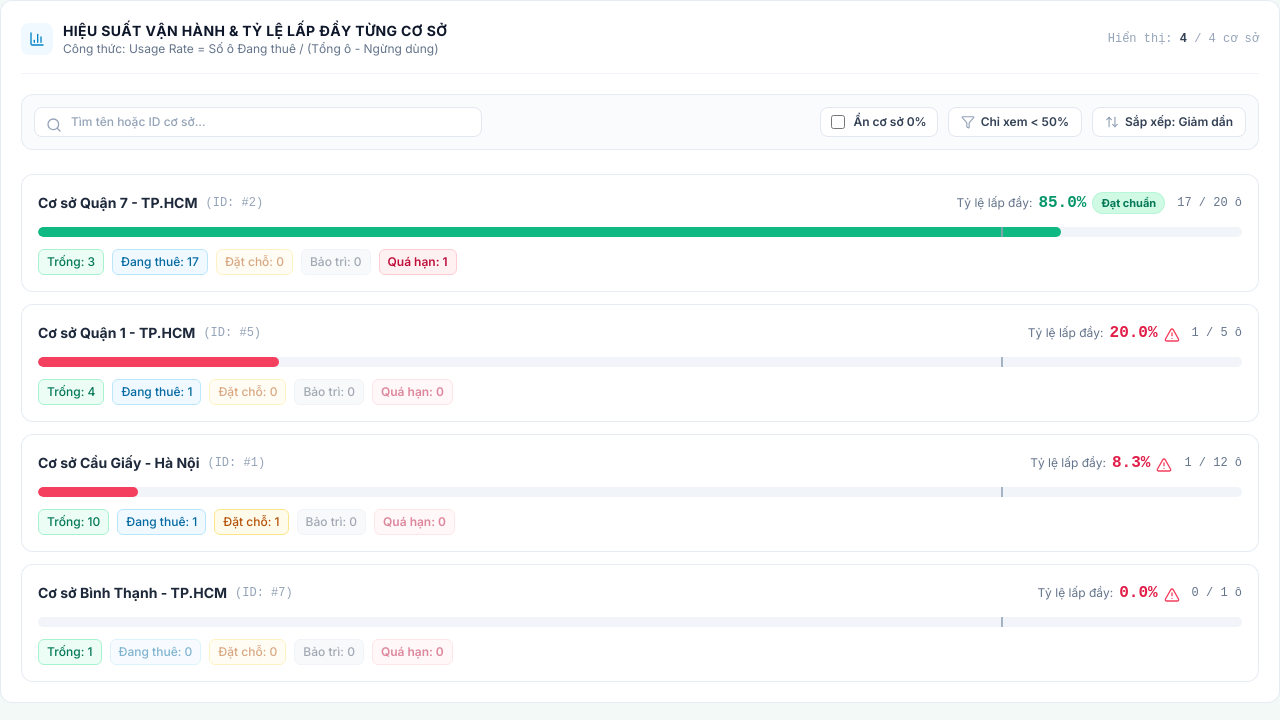
OccupancyComparisonChart (Enterprise UX List View) › filters by search keyword (name or id)
Type "Quận 1" into the field with placeholder "Tìm tên hoặc ID cơ sở..." at (258, 122), box [34,107,482,137]
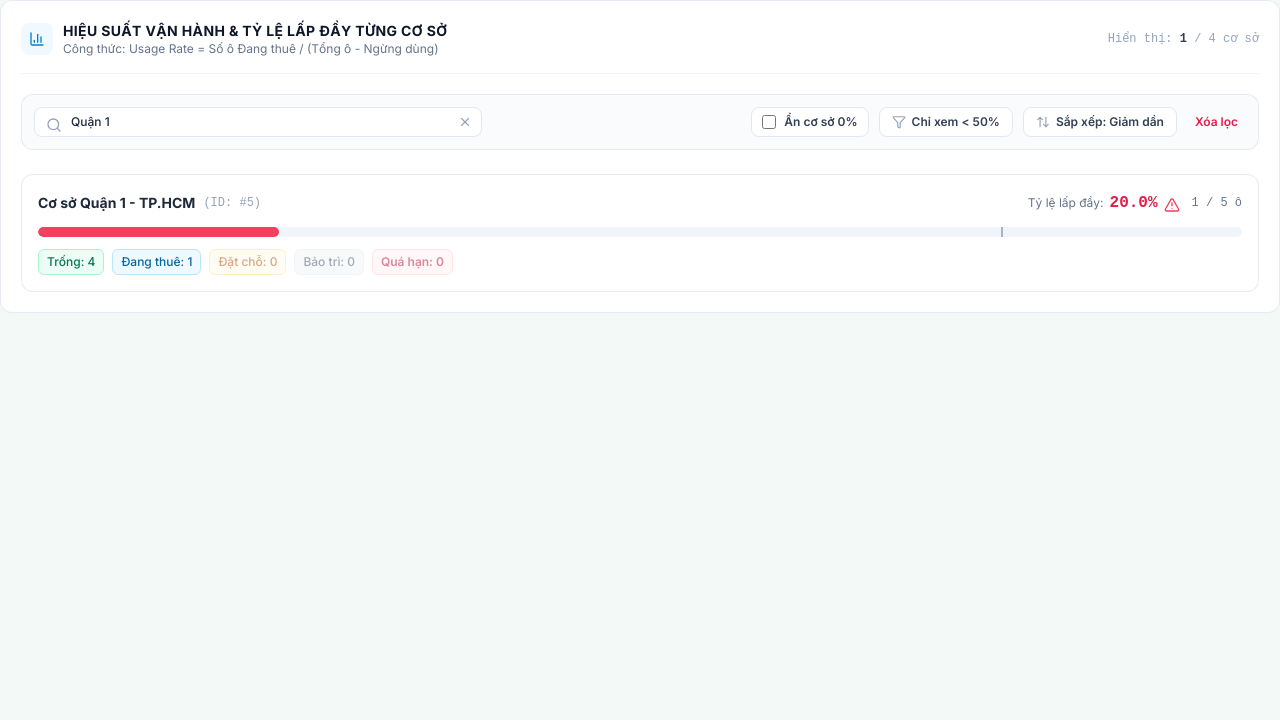
Expected: the text "Cơ sở Quận 1 - TP.HCM" is shown, [38,193,195,213]
Expected: the button "Cơ sở Cầu Giấy - Hà Nội" is gone
